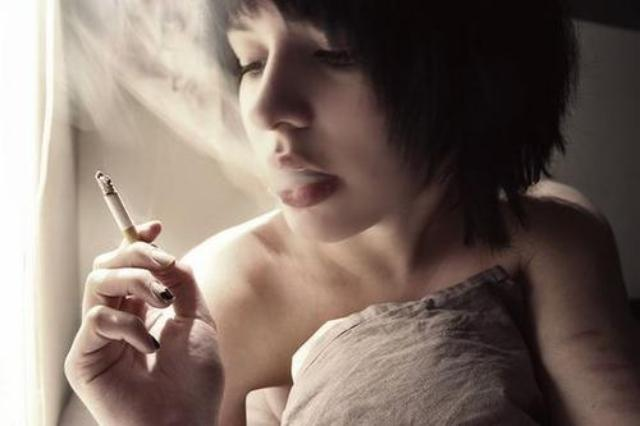Smoking: (92, 170, 138, 244)
